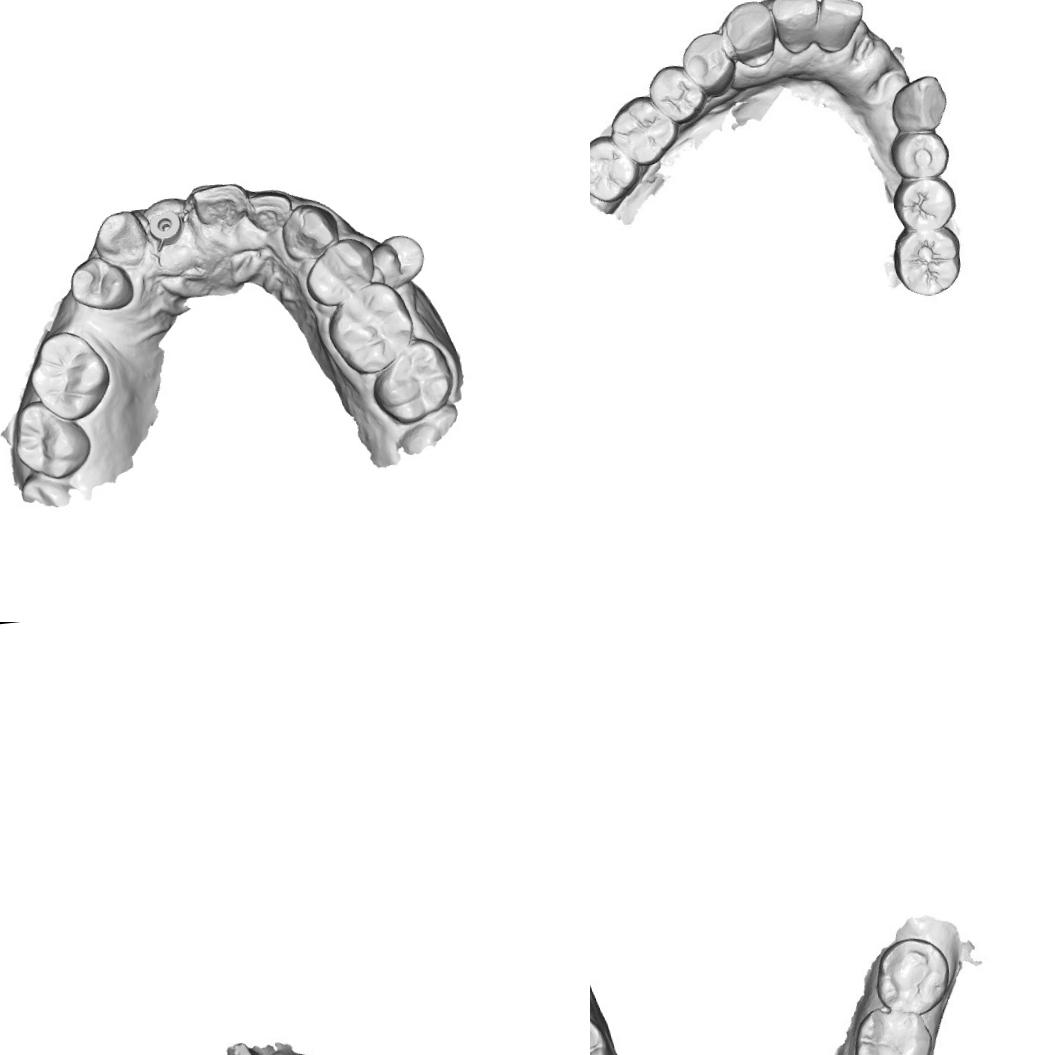canine: (87, 204, 150, 272), (276, 200, 340, 264), (722, 1, 776, 63), (892, 74, 949, 128)
implant: (142, 202, 187, 248)
incisor: (188, 177, 252, 231), (240, 185, 298, 237), (814, 0, 865, 58), (769, 0, 820, 54), (227, 1034, 300, 1055)
molar: (324, 278, 418, 381), (22, 328, 115, 426), (365, 333, 459, 429), (7, 395, 95, 484), (874, 936, 952, 1016), (609, 95, 678, 166), (894, 228, 963, 297), (850, 1007, 936, 1055), (590, 133, 640, 205)
premolar: (300, 235, 382, 310), (64, 250, 139, 316), (368, 230, 429, 291), (648, 60, 702, 126), (680, 32, 739, 92), (896, 177, 958, 231), (892, 128, 953, 178)
